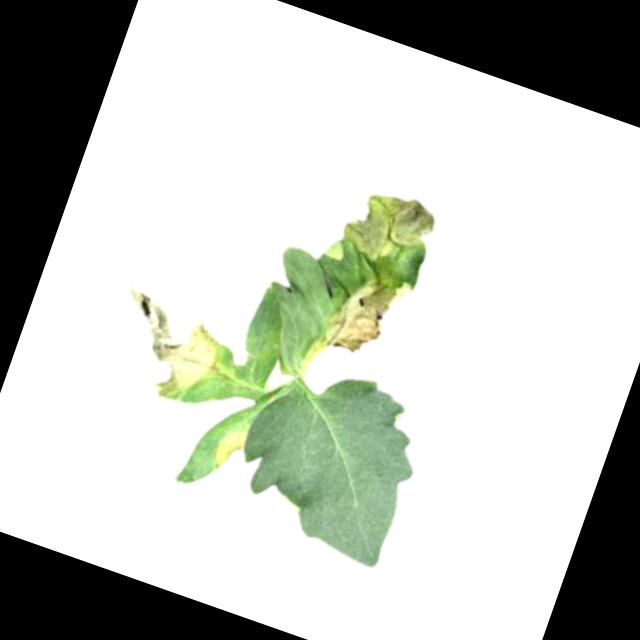Late_blight: (95, 280, 240, 414), (323, 175, 443, 286), (317, 256, 419, 366), (208, 426, 249, 478)
